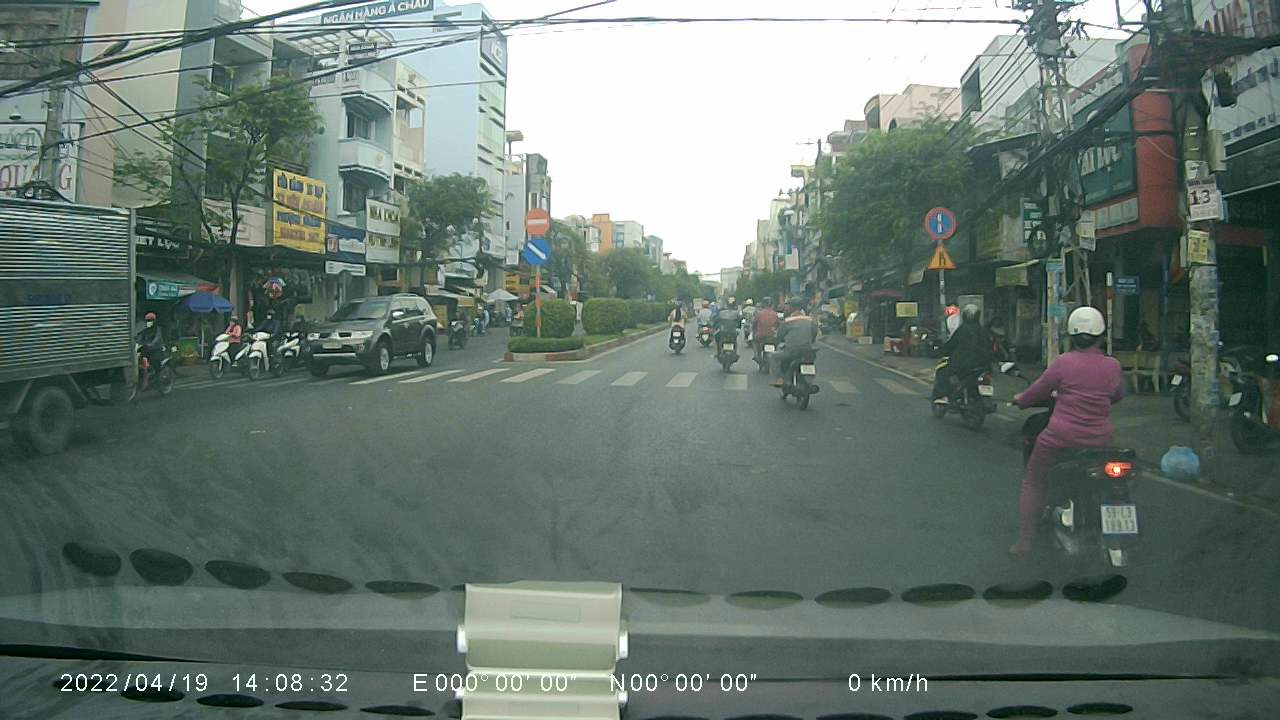Bien khac: (924, 203, 957, 244), (926, 243, 960, 270)
Cam di nguoc chieu: (523, 206, 552, 234)
Huong di phai re phai: (522, 236, 553, 264)
